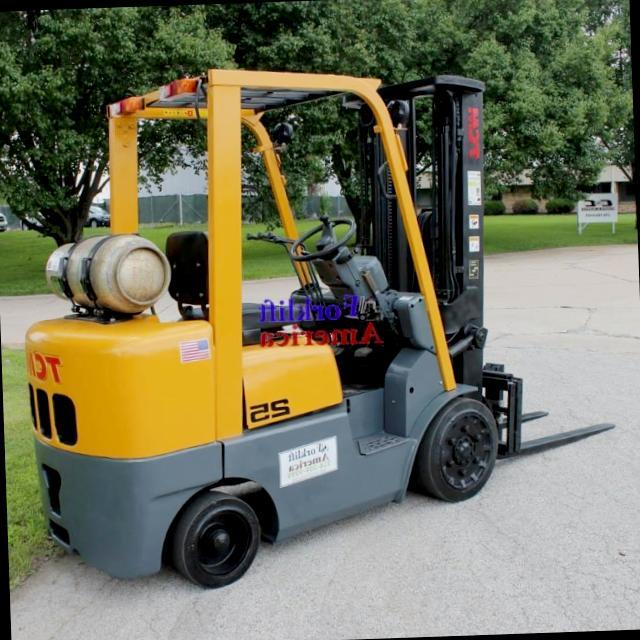forklift: (12, 32, 547, 600)
